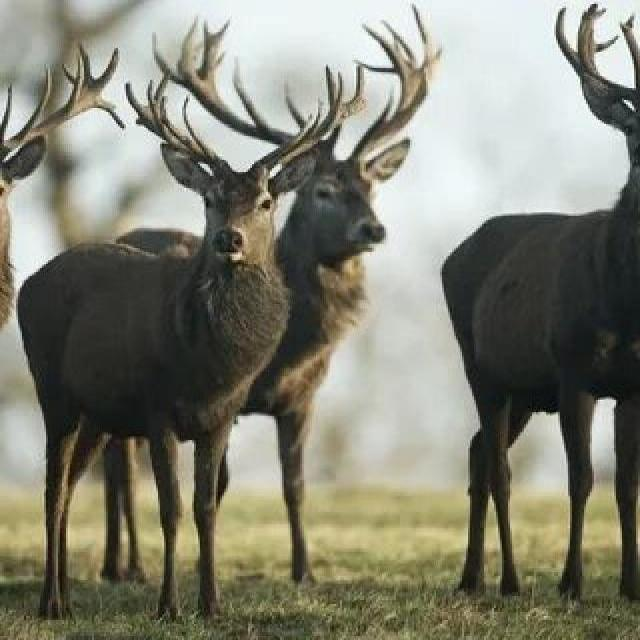deer: (0, 56, 374, 531), (402, 75, 640, 520), (217, 101, 473, 420)
